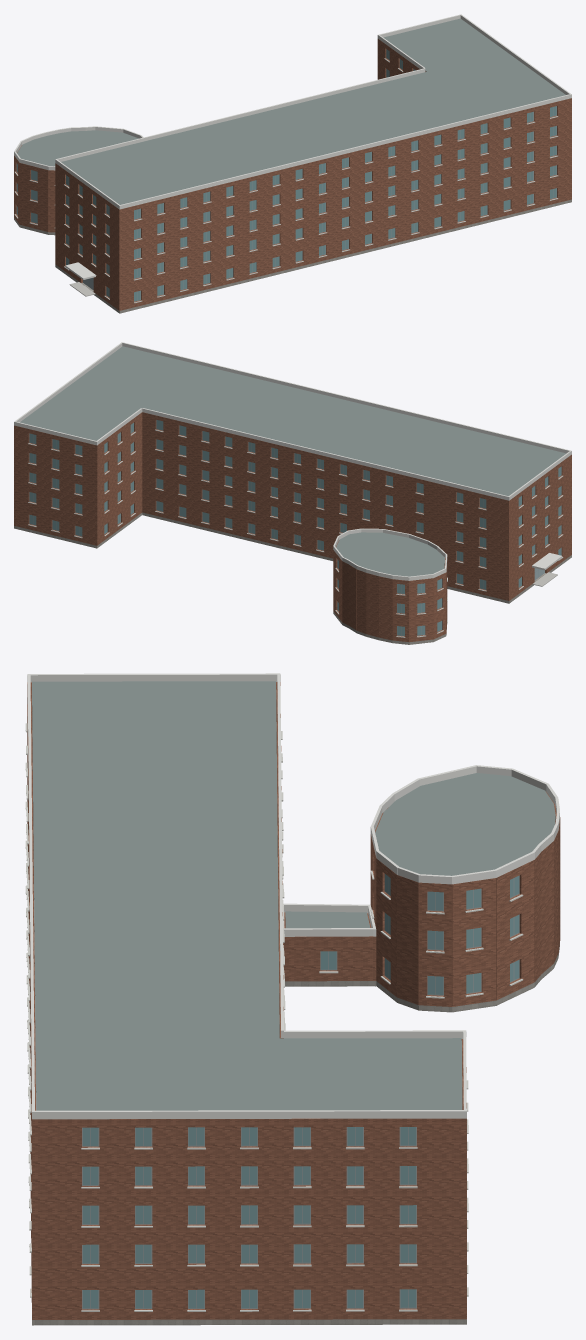
3 renders of one model, top to bottom at view 1: azimuth 30°, elevation 25°; view 2: azimuth 150°, elevation 25°; view 3: azimuth 270°, elevation 25°, orthographic. The views are drawn at different scales.
Visible parts, largest first — view 1: humanities__wall, humanities__roof, humanities__glass, humanities__cap, humanities__frame, humanities__band, humanities__plinth, humanities__foundation; view 2: humanities__wall, humanities__roof, humanities__glass, humanities__cap, humanities__frame, humanities__band, humanities__plinth, humanities__foundation; view 3: humanities__roof, humanities__wall, humanities__cap, humanities__glass, humanities__band, humanities__frame, humanities__plinth, humanities__foundation.
Boxes of the visible parts, x1,y1,x2,y2 form: humanities__wall: [14, 39, 571, 310]; humanities__roof: [17, 18, 565, 204]; humanities__glass: [16, 49, 556, 301]; humanities__cap: [14, 14, 571, 278]; humanities__frame: [16, 51, 556, 301]; humanities__band: [14, 58, 558, 303]; humanities__plinth: [14, 199, 571, 312]; humanities__foundation: [14, 200, 571, 313]; humanities__wall: [14, 412, 571, 642]; humanities__roof: [20, 346, 566, 576]; humanities__glass: [29, 420, 561, 635]; humanities__cap: [14, 342, 571, 580]; humanities__frame: [29, 420, 561, 636]; humanities__band: [28, 429, 563, 637]; humanities__plinth: [14, 512, 571, 644]; humanities__foundation: [14, 514, 571, 644]; humanities__roof: [32, 681, 555, 1110]; humanities__wall: [27, 682, 560, 1319]; humanities__cap: [27, 673, 559, 1119]; humanities__glass: [83, 874, 519, 1308]; humanities__band: [25, 723, 523, 1311]; humanities__frame: [82, 874, 519, 1309]; humanities__plinth: [32, 884, 559, 1324]; humanities__foundation: [32, 958, 558, 1325].
Bounding box in the file's own units: 86.82 × 19.13 × 43.4.
12 materials, 4 textured.
